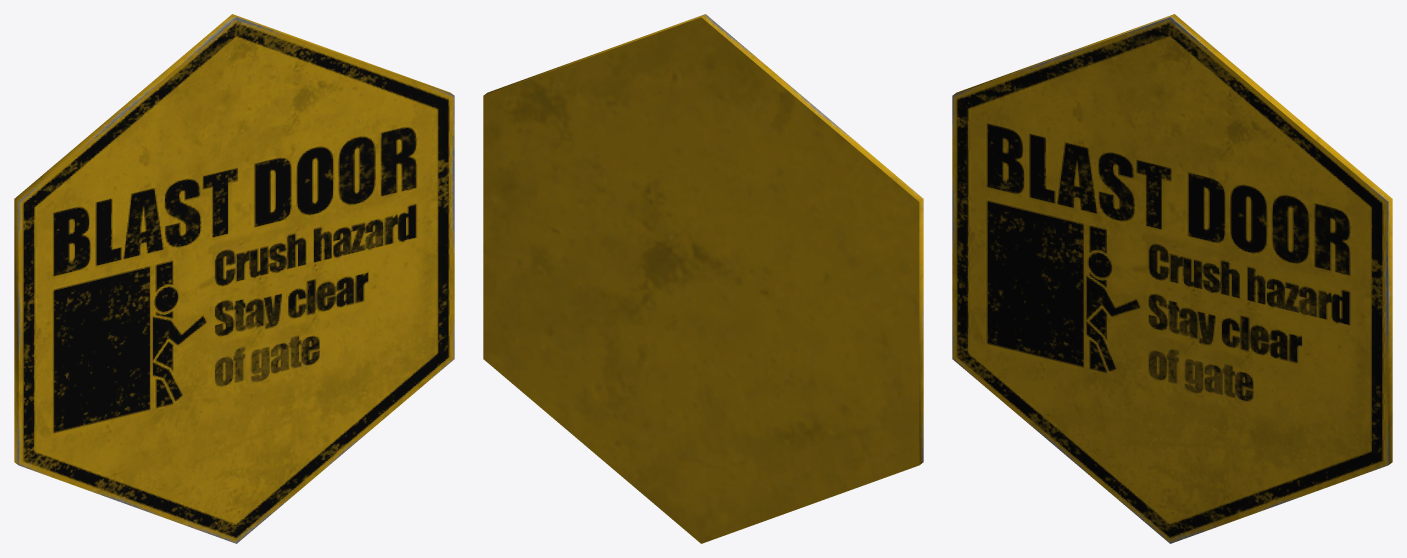
Rendered from sign_hex_blastdoor.dae.
3 views of the same model, side by side, from view 1: azimuth 30°, elevation 25°; view 2: azimuth 150°, elevation 25°; view 3: azimuth 330°, elevation 25° (orthographic).
Parts seen in each view (by area): view 1: sign_hex_blastdoor; view 2: sign_hex_blastdoor; view 3: sign_hex_blastdoor.
Boxes of the visible parts, x1,y1,x2,y2 form: sign_hex_blastdoor: (14,14,454,543); sign_hex_blastdoor: (483,14,923,543); sign_hex_blastdoor: (952,14,1392,543).
Size of the model in its own units: 0.3889 by 0.4491 by 0.00673.
1 material, 1 textured.
